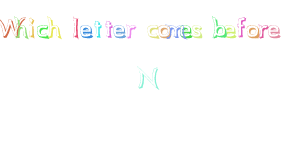N: (138, 66, 158, 89)
W: (1, 16, 19, 39)
b: (212, 17, 226, 39)
c: (36, 24, 49, 38), (146, 24, 158, 38)
e: (268, 23, 282, 39), (79, 24, 93, 39), (112, 24, 125, 39), (224, 24, 236, 39), (181, 25, 191, 38)
f: (236, 15, 246, 37)
h: (47, 15, 61, 39), (14, 16, 28, 38)
i: (28, 17, 36, 38)
l: (71, 16, 80, 39)
m: (168, 24, 183, 38)
o: (246, 24, 259, 39), (159, 24, 170, 38)
r: (125, 23, 137, 39), (259, 23, 268, 39)
s: (192, 25, 203, 39)
t: (93, 19, 103, 37), (104, 19, 113, 38)
